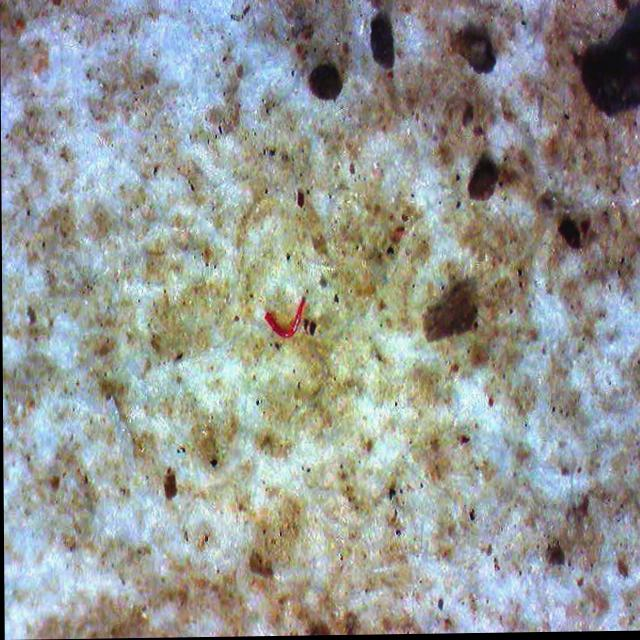microplastic: (262, 298, 314, 343)
